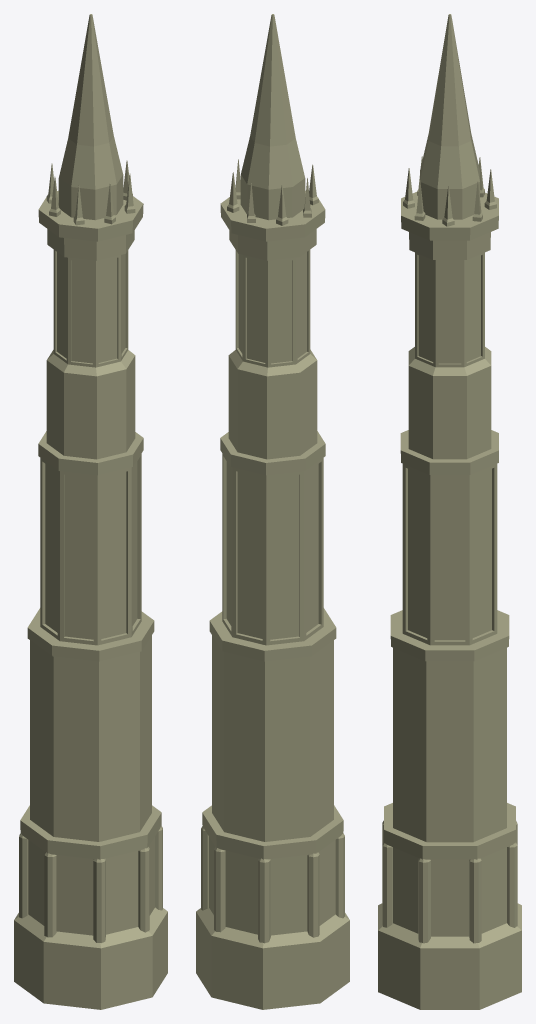
File: haligtree_tower.glb
3 renders of one model, left to right at view 1: azimuth 30°, elevation 25°; view 2: azimuth 150°, elevation 25°; view 3: azimuth 270°, elevation 25°, orthographic.
Parts seen in each view (by area): view 1: Cylinder.317; view 2: Cylinder.317; view 3: Cylinder.317.
Part boxes in pixels (x1,y1,x2,y2): Cylinder.317: (14, 14, 167, 1009); Cylinder.317: (196, 14, 349, 1009); Cylinder.317: (378, 14, 521, 1009).
Size of the model in its own units: 0.5222 by 3.87 by 0.5222.
